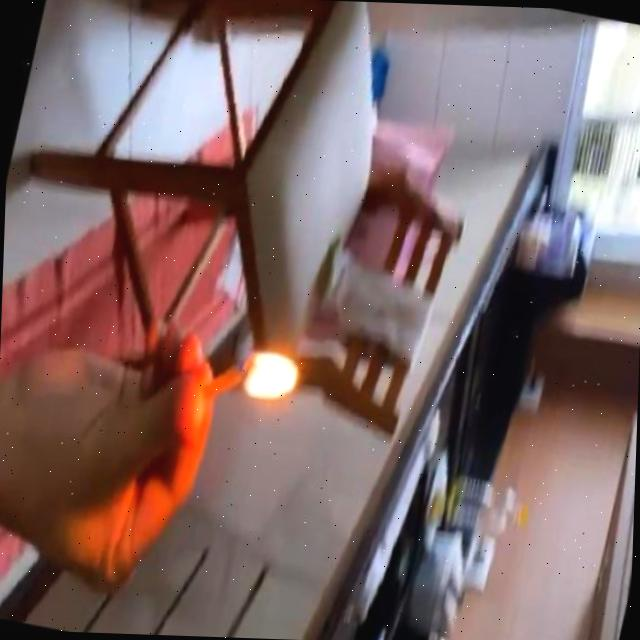fire: (226, 343, 304, 410)
